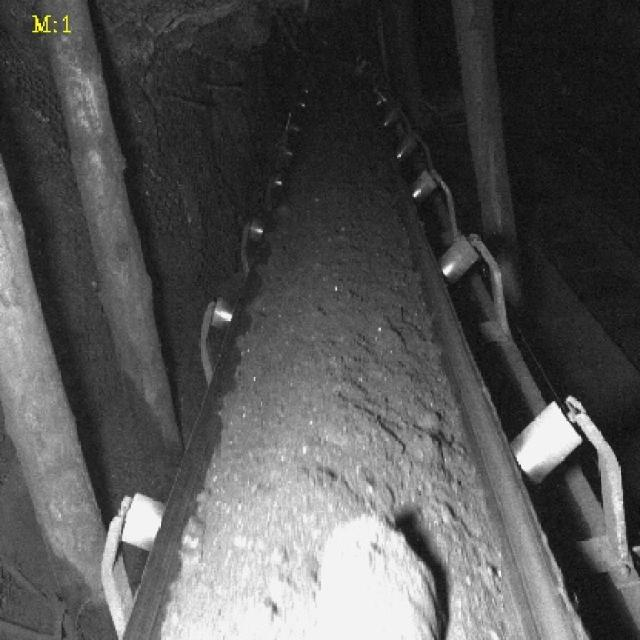large_sized_coal: (316, 520, 446, 640)
